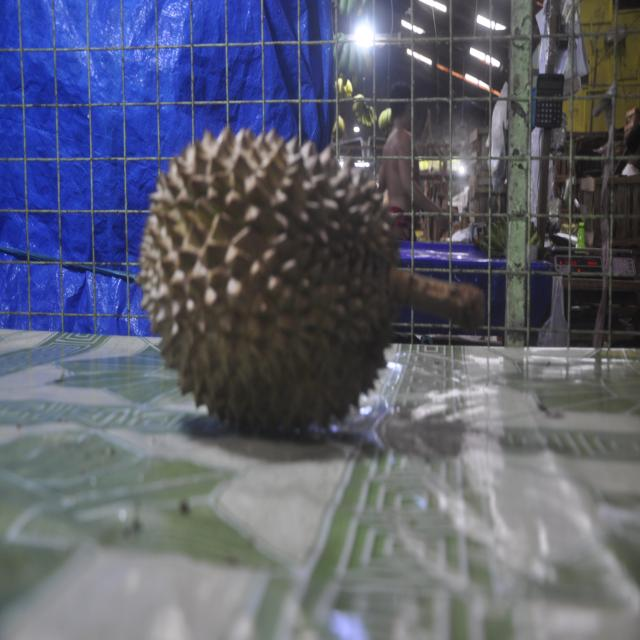mature: (139, 129, 482, 432)
